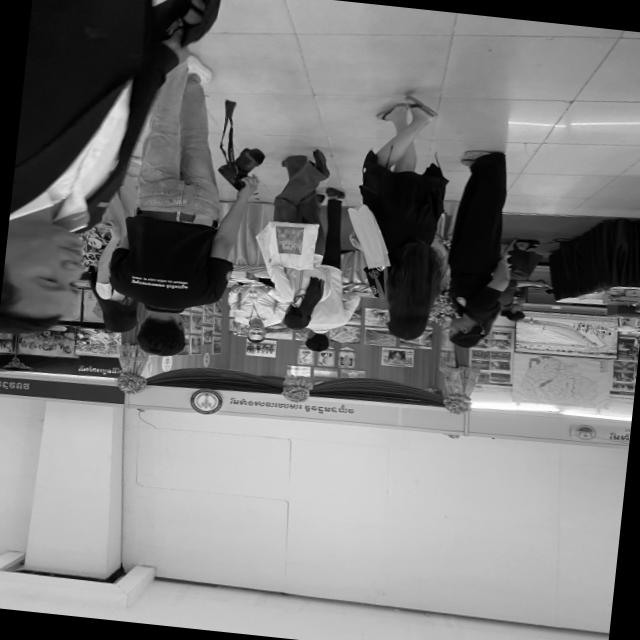1: (227, 395, 356, 417), (129, 278, 189, 291)
Yolov11_80vkh: (74, 362, 125, 378), (0, 379, 31, 395), (607, 431, 628, 444)
